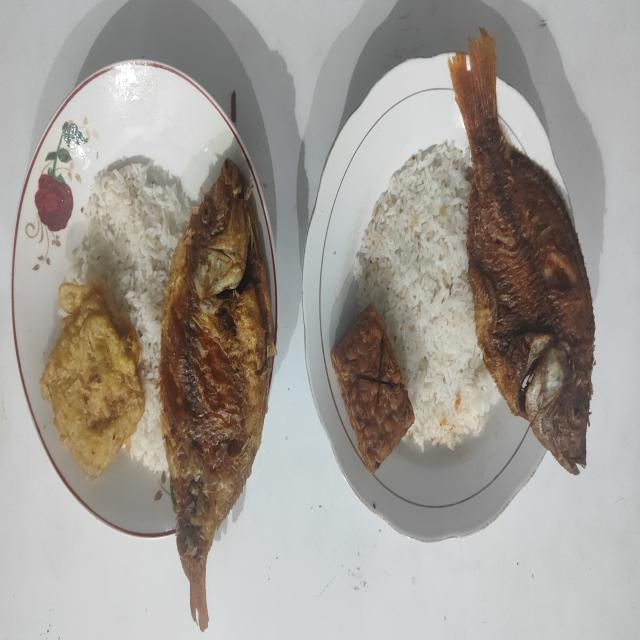ikan_mujair: (449, 28, 595, 474), (160, 160, 276, 630)
nasi_putih: (356, 140, 499, 450), (66, 160, 191, 473)
tempe_goreng: (330, 306, 414, 472)
